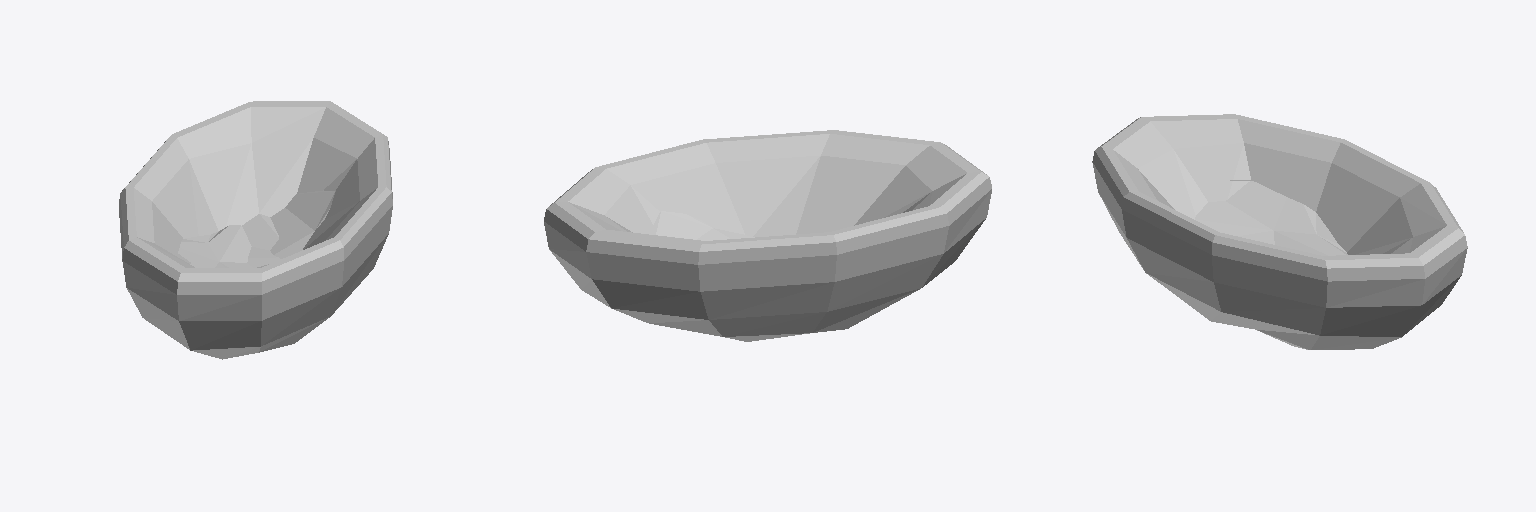
The model's file is BloodCell.obj.
3 renders of one model, left to right at view 1: azimuth 30°, elevation 25°; view 2: azimuth 150°, elevation 25°; view 3: azimuth 270°, elevation 25°, orthographic.
Visible parts, largest first — view 1: pSphere1, pPlane1; view 2: pSphere1, pPlane1; view 3: pSphere1, pPlane1.
Boxes of the visible parts, box(x1,y1,x2,y2) form: pSphere1: box(119, 101, 392, 359); pPlane1: box(173, 190, 335, 267); pSphere1: box(544, 130, 991, 341); pPlane1: box(653, 211, 754, 240); pSphere1: box(1092, 114, 1467, 349); pPlane1: box(1195, 180, 1347, 255).
Size of the model in its own units: 2.68 by 1.12 by 2.76.